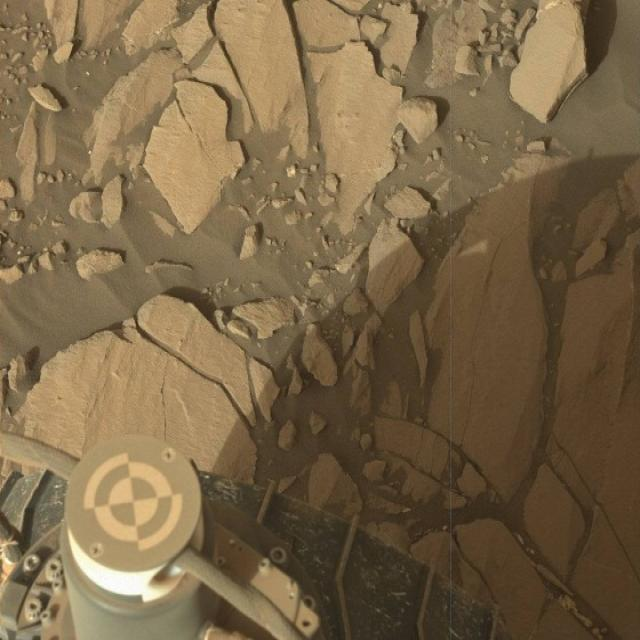rock: (508, 0, 590, 123)
